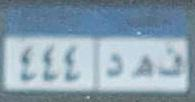4: (39, 41, 59, 83), (18, 45, 39, 85), (64, 39, 80, 85)
د: (103, 46, 130, 83)
ف: (155, 45, 185, 79)
ه: (128, 45, 157, 86)
